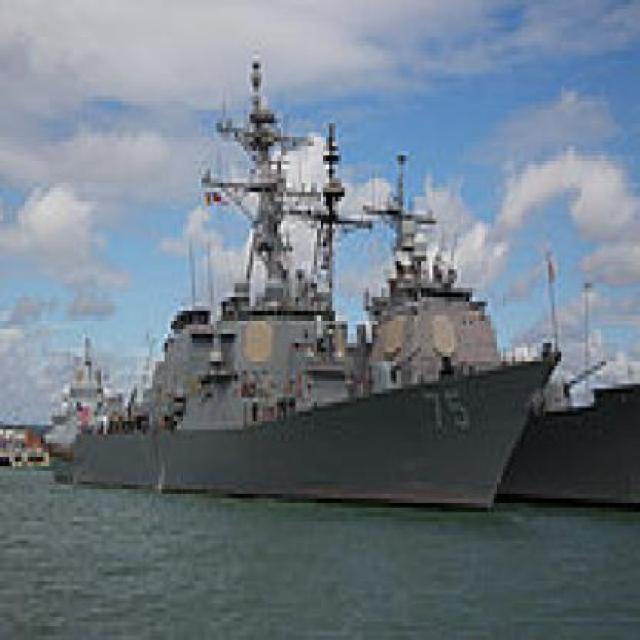warship2: (35, 42, 519, 531), (358, 174, 638, 568)
